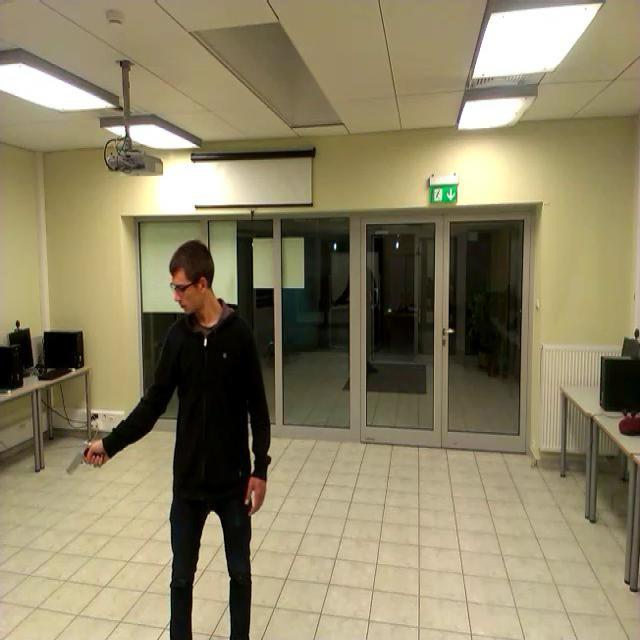weapon: (64, 441, 104, 476)
